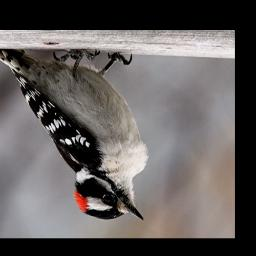Woodpecker: (0, 46, 150, 220)
